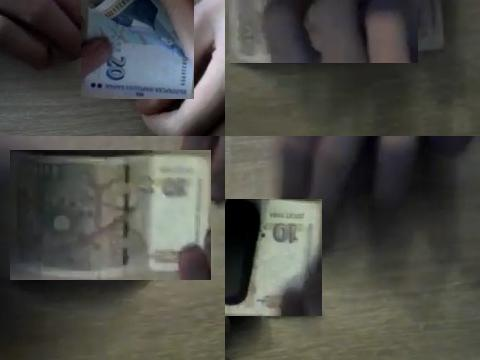10leva: (10, 150, 211, 280), (225, 199, 322, 316), (230, 0, 269, 63)
20leva: (81, 0, 194, 99)
